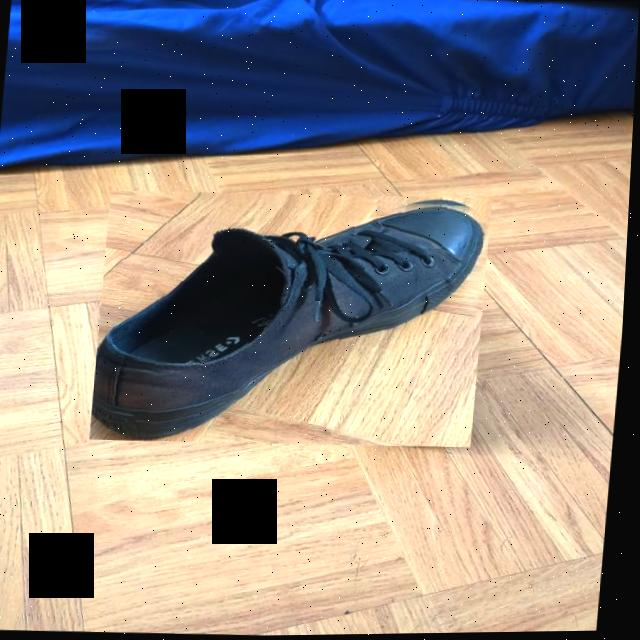shoe: (94, 186, 494, 453)
